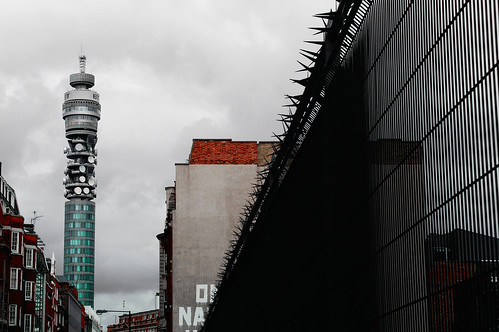building: (144, 142, 425, 332), (57, 54, 107, 305), (1, 182, 53, 332), (52, 282, 118, 332), (111, 298, 158, 332)
sky: (115, 1, 299, 161), (1, 1, 58, 176)
